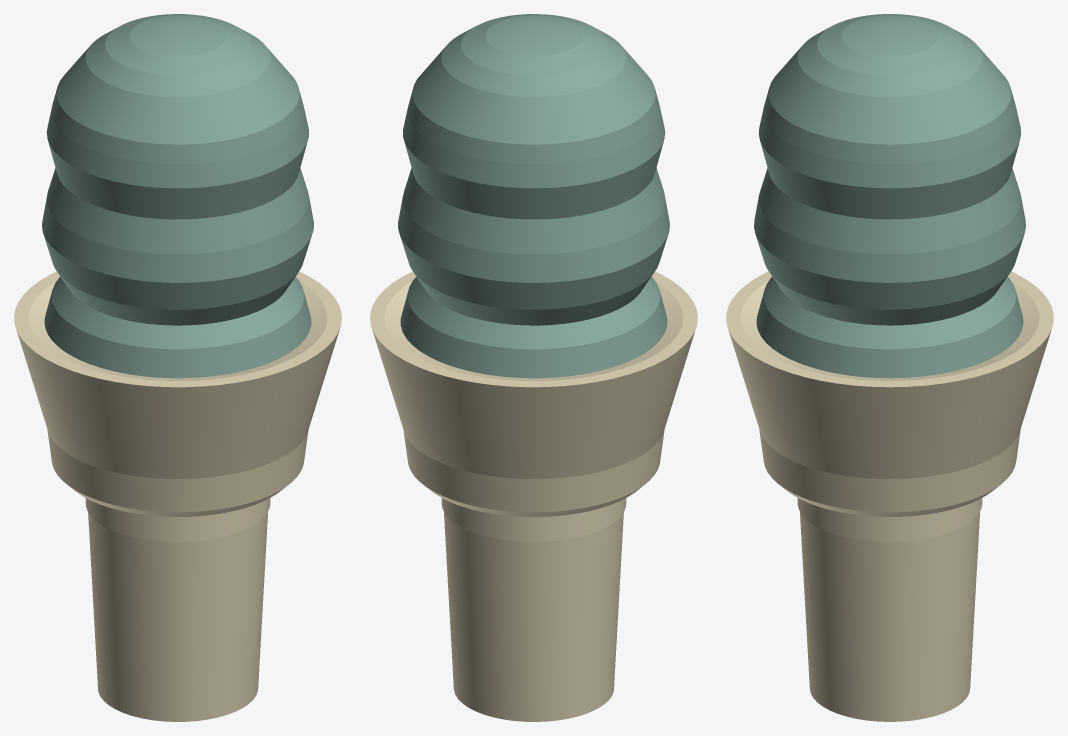
3 renders of one model, left to right at view 1: azimuth 30°, elevation 25°; view 2: azimuth 150°, elevation 25°; view 3: azimuth 270°, elevation 25°, orthographic.
Visible parts, largest first — view 1: rounded_column; view 2: rounded_column; view 3: rounded_column.
Boxes of the visible parts, box(x1,y1,x2,y2) form: rounded_column: box(14, 14, 341, 721); rounded_column: box(370, 14, 697, 721); rounded_column: box(726, 14, 1053, 721).
Bounding box in the file's own units: 0.0675 × 0.15 × 0.0674.
